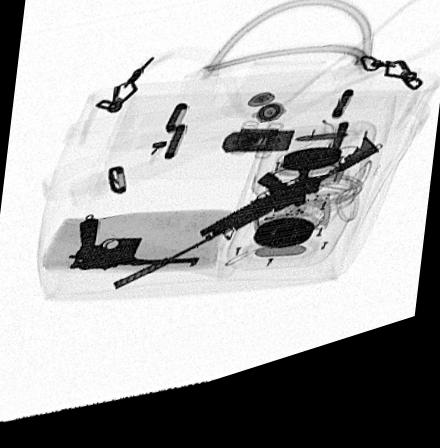Gun: (111, 159, 381, 297), (67, 223, 200, 280)
